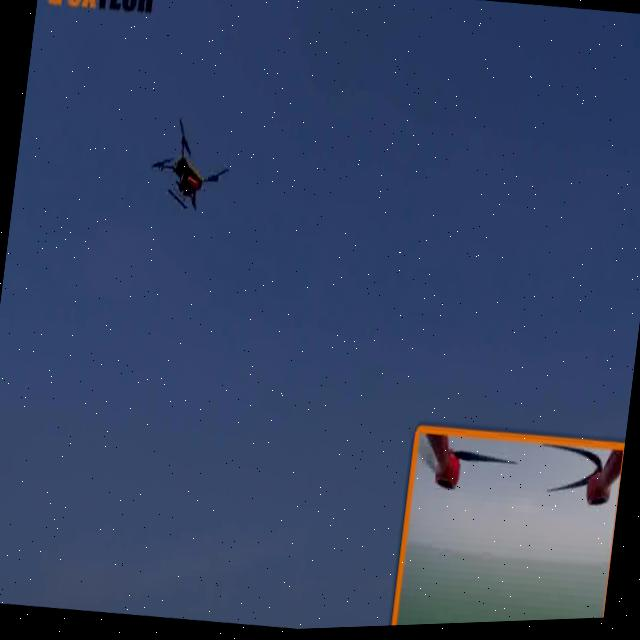drone: (130, 95, 244, 256)
